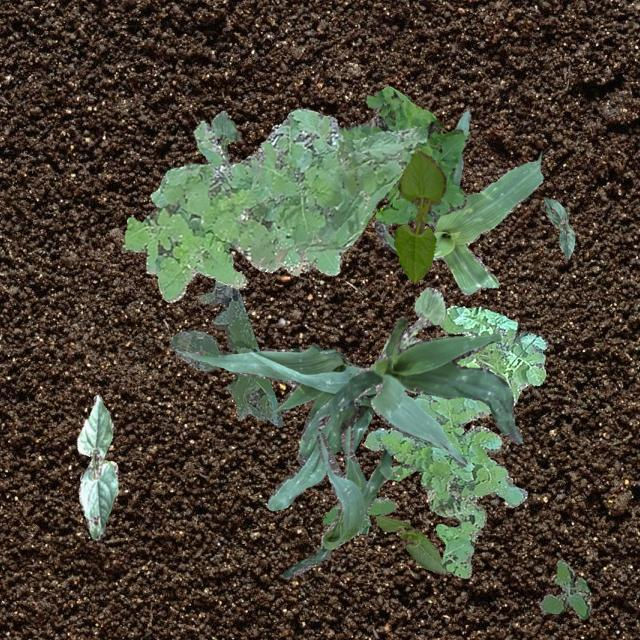crop: (176, 344, 376, 510), (301, 316, 521, 466), (374, 110, 542, 294), (282, 426, 390, 578), (392, 150, 444, 282), (76, 394, 118, 538), (374, 514, 444, 572), (382, 286, 444, 350), (542, 195, 574, 258), (210, 110, 240, 162)
weed: (121, 108, 426, 302), (364, 304, 546, 578), (336, 84, 469, 224), (168, 280, 282, 426), (538, 558, 590, 618), (322, 496, 396, 532)
